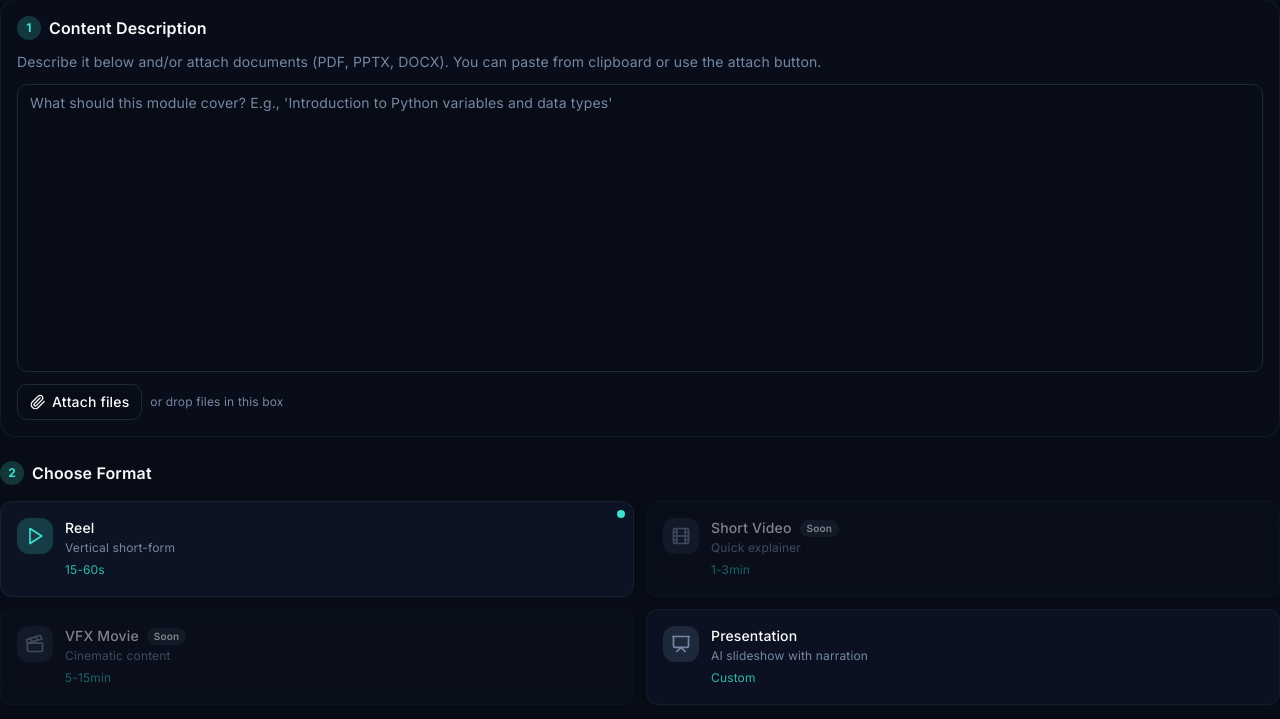
Test: GenerationPanel › Generate Screenplay › should show loading state while generating
Type "Test topic" into the text box with placeholder "What should this module cover" at (640, 228), box [17,84,1263,372]
(page scrolled)
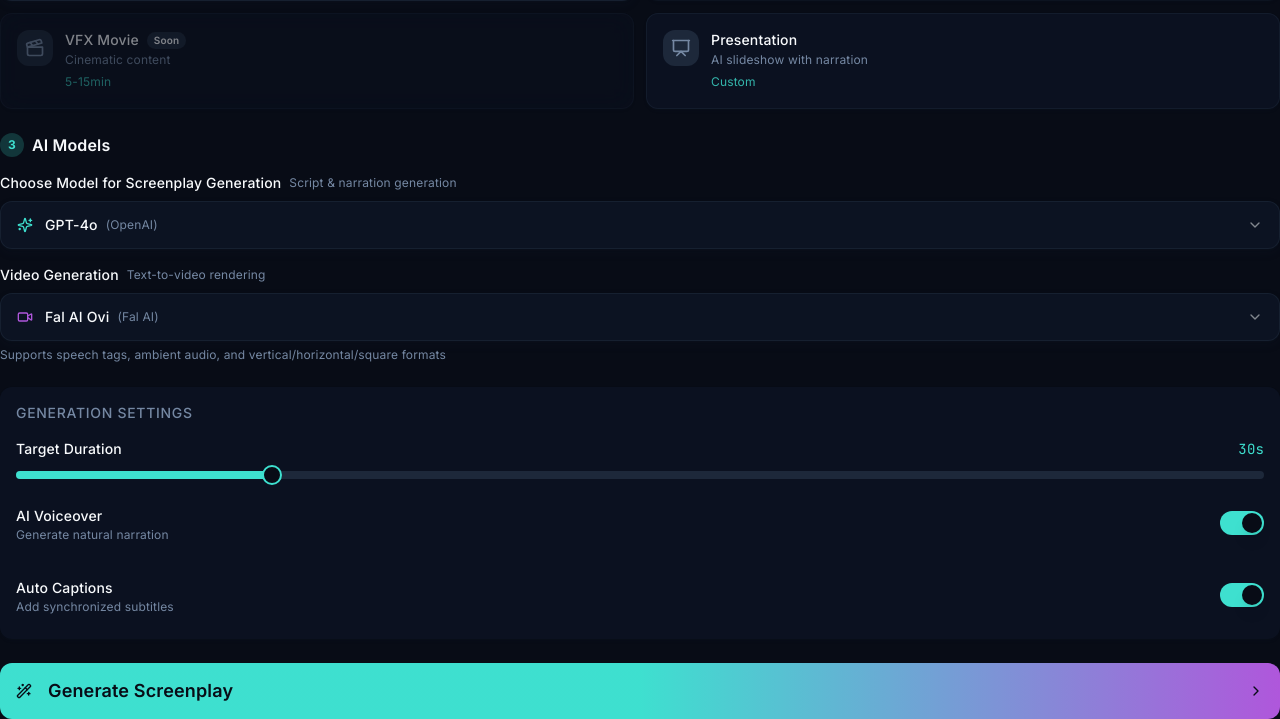
Click the button "Generate Screenplay" at (141, 690), box [0,663,1279,718]
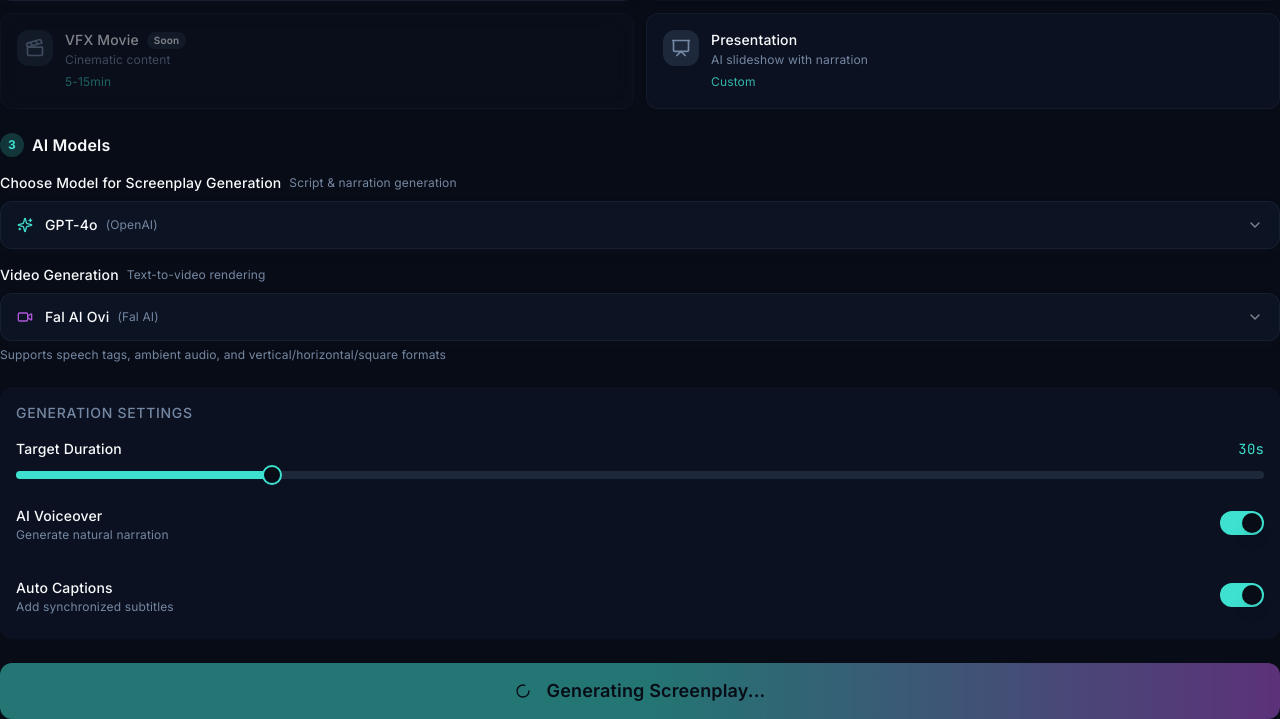
Check: the button "Generating Screenplay..." is shown, box [0,663,1279,718]
